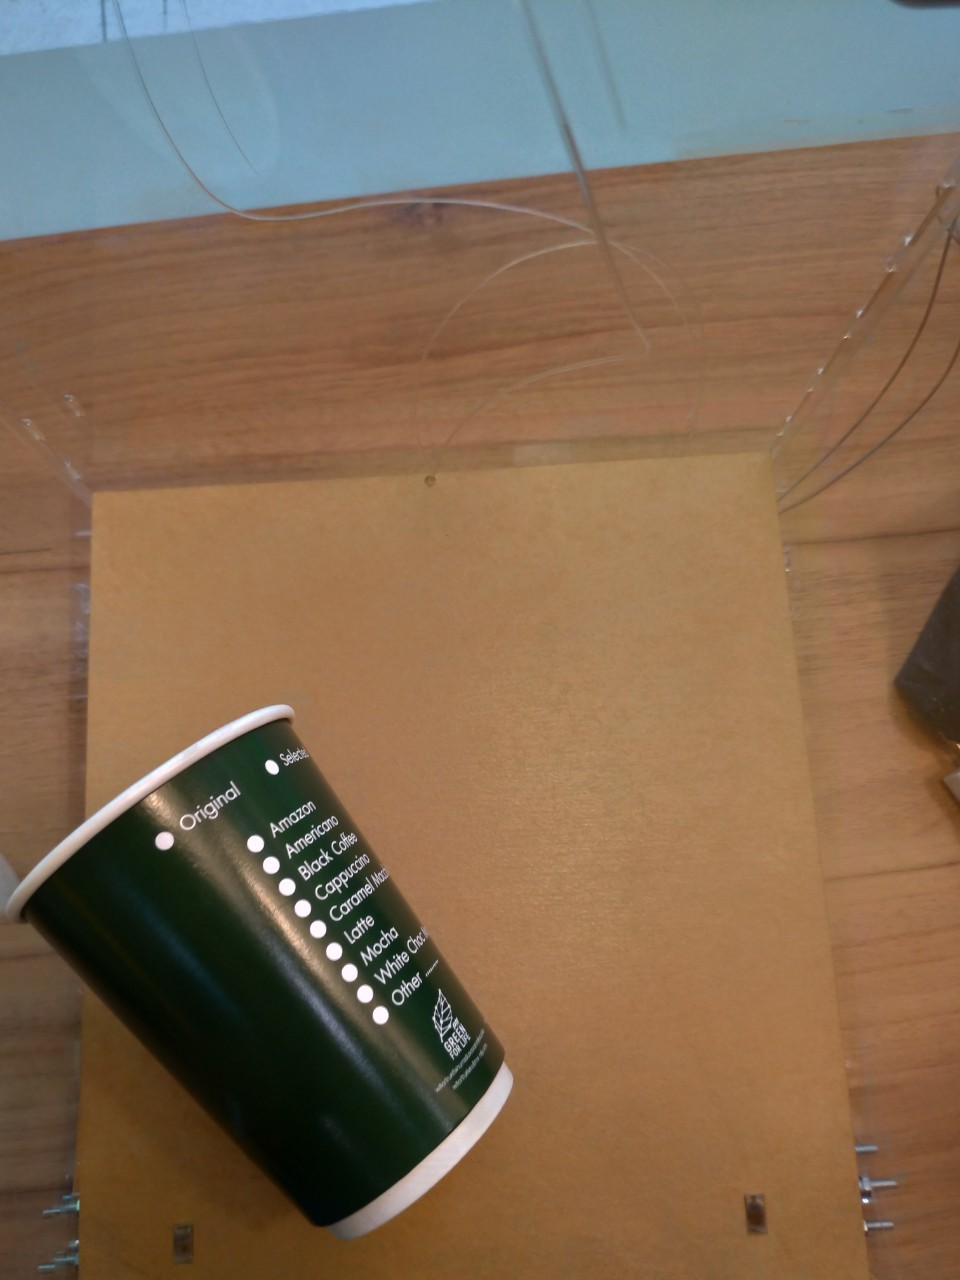PaperCup: (6, 702, 512, 1243)
